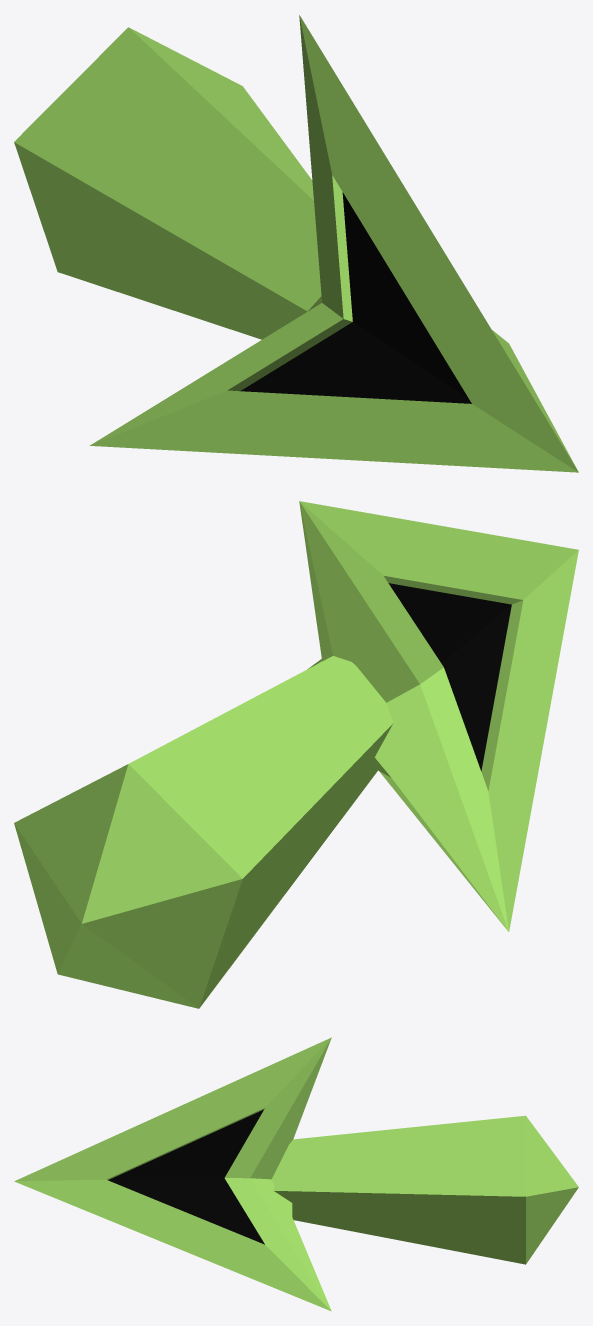
File: Arrow_3D.fbx
3 views of the same model, one above another, from view 1: azimuth 30°, elevation 25°; view 2: azimuth 150°, elevation 25°; view 3: azimuth 270°, elevation 25° (orthographic). The views are drawn at different scales.
Visible parts, largest first — view 1: Cylinder, Cone, Cone.001; view 2: Cylinder, Cone, Cone.001; view 3: Cylinder, Cone, Cone.001.
Boxes of the visible parts, box(x1,y1,x2,y2) form: Cylinder: box(14, 27, 321, 339); Cone: box(89, 15, 578, 472); Cone.001: box(240, 192, 471, 403); Cylinder: box(14, 656, 393, 1008); Cone: box(299, 501, 578, 931); Cone.001: box(388, 583, 511, 770); Cylinder: box(271, 1115, 578, 1264); Cone: box(14, 1037, 331, 1311); Cone.001: box(108, 1109, 264, 1244).
Size of the model in its own units: 173 by 150 by 355.
Materials: 1 (1 with a texture image).
